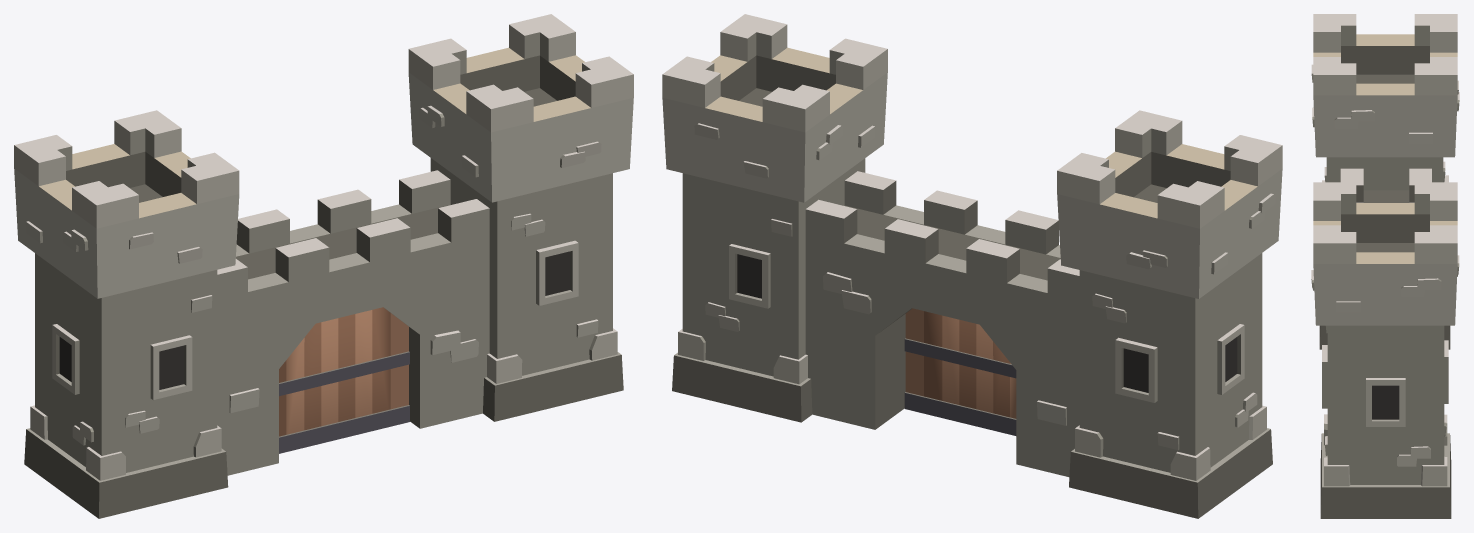
The model's file is TB_Str_GateSet.FBX.
The picture shows the model from 3 angles, left to right: view 1: azimuth 30°, elevation 25°; view 2: azimuth 150°, elevation 25°; view 3: azimuth 270°, elevation 25°; orthographic projection. The views are drawn at different scales.
Parts seen in each view (by area): view 1: TB_Str_GateWall, TB_Str_Gate; view 2: TB_Str_GateWall, TB_Str_Gate; view 3: TB_Str_GateWall.
Boxes of the visible parts, x1=… form: TB_Str_GateWall: x1=14, y1=14, x2=633, y2=518; TB_Str_Gate: x1=279, y1=307, x2=409, y2=453; TB_Str_GateWall: x1=662, y1=14, x2=1282, y2=518; TB_Str_Gate: x1=904, y1=308, x2=1016, y2=435; TB_Str_GateWall: x1=1311, y1=14, x2=1459, y2=518.
Size of the model in its own units: 12.18 by 6.83 by 3.29.
